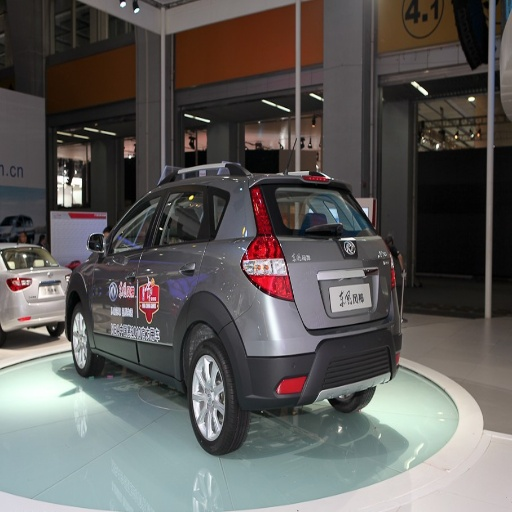back_bumper: (219, 285, 399, 413)
back_glass: (269, 185, 367, 233)
back_left_door: (136, 197, 203, 367)
